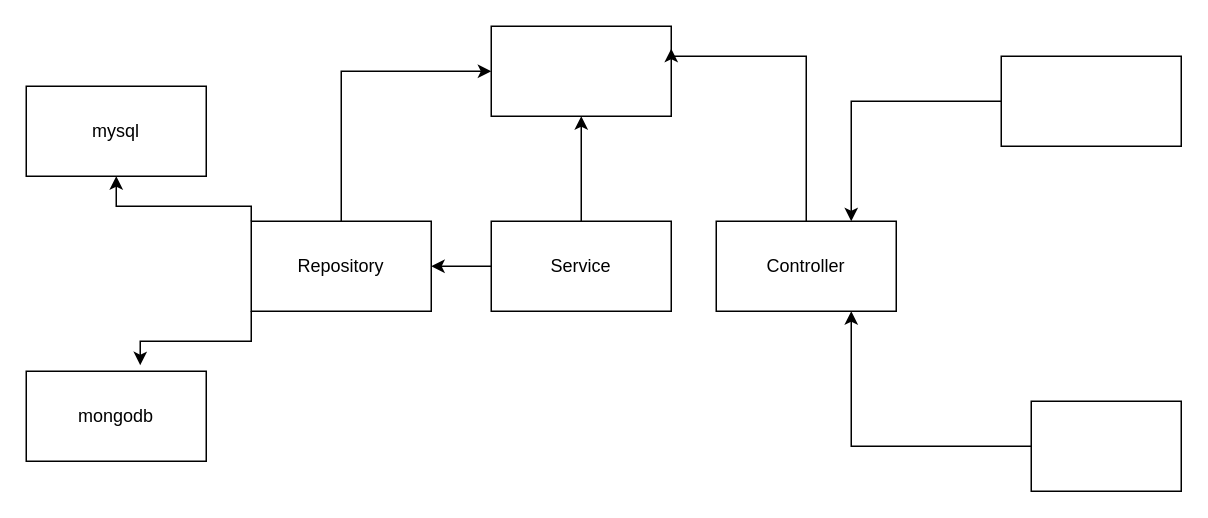
The diagram is 1208 pixels wide and 518 high, and some of its shapes have lost their labels. Here are the shapes that lost their labels. From the top down, the centre of each, then its label:
pixel 580 70: Entity
pixel 1090 100: Website
pixel 1105 445: Mobile app
